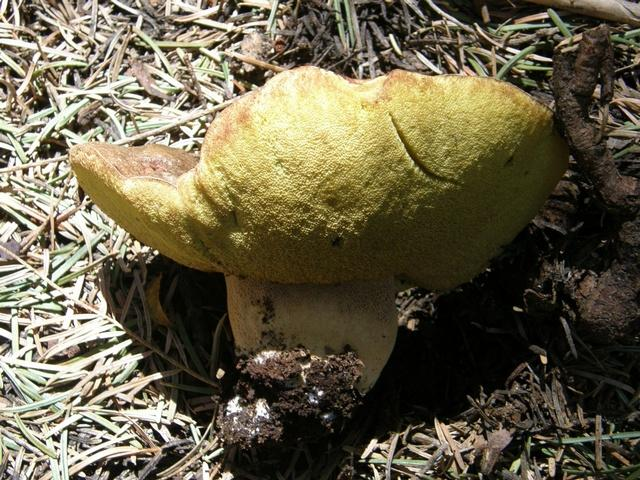edible_mushroom: (67, 63, 570, 448)
